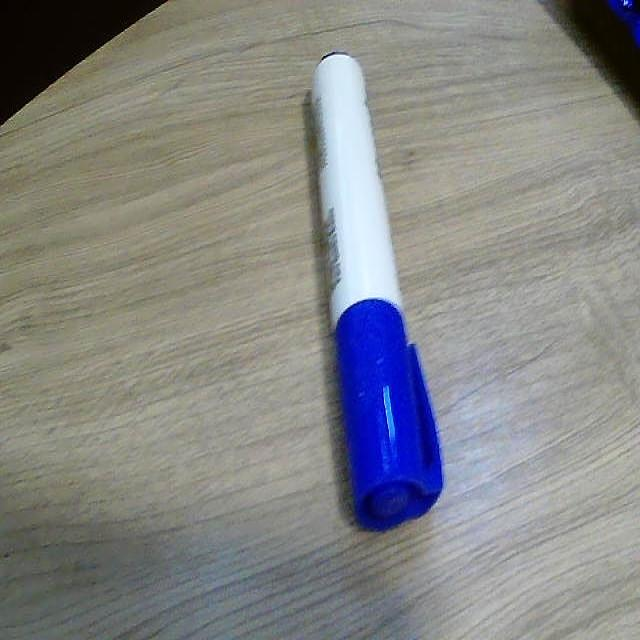caneta: (292, 51, 461, 530)
